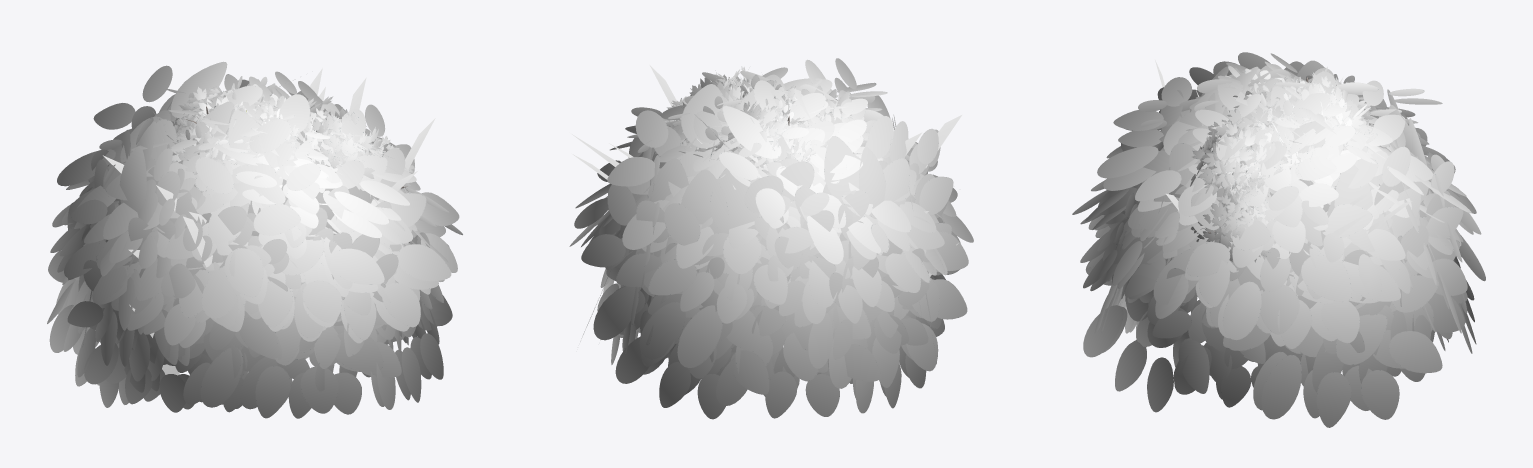
File: nature.glb
The picture shows the model from 3 angles, left to right: view 1: azimuth 30°, elevation 25°; view 2: azimuth 150°, elevation 25°; view 3: azimuth 270°, elevation 25°; orthographic projection.
Visible parts, largest first — view 1: bush, bush_flowers, maple_c, grass_tall, leafy_c, maple_a, leafy_b; view 2: bush, bush_flowers, maple_c, grass_tall, leafy_c, leafy_b, maple_a; view 3: bush, bush_flowers, maple_c, maple_a, leafy_b, grass_tall, leafy_c.
Part boxes in pixels (x1,y1,x2,y2): bush: (47,61,462,418); bush_flowers: (73,89,449,409); maple_c: (163,86,392,178); grass_tall: (103,68,435,375); leafy_c: (167,97,314,179); maple_a: (171,103,414,192); leafy_b: (153,74,278,160); bush: (569,58,973,419); bush_flowers: (598,77,960,398); maple_c: (674,66,826,173); grass_tall: (572,65,961,276); leafy_c: (670,85,875,146); leafy_b: (679,89,905,175); maple_a: (662,94,832,162); bush: (1072,52,1485,427); bush_flowers: (1080,89,1448,418); maple_c: (1190,67,1374,206); maple_a: (1191,77,1373,262); leafy_b: (1271,74,1389,152); grass_tall: (1155,60,1412,239); leafy_c: (1222,65,1320,276).
Size of the model in its own units: 1.88 by 1.3 by 1.91.
Materials: 1 (1 with a texture image).
